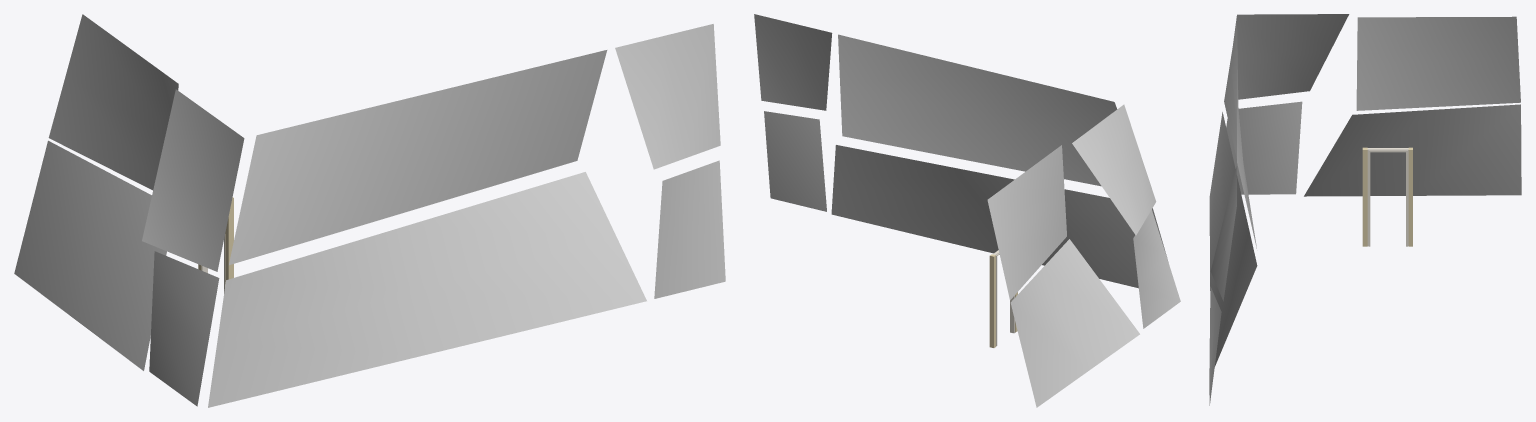
Rendered from marble facade.fbx.
The picture shows the model from 3 angles, left to right: view 1: azimuth 30°, elevation 25°; view 2: azimuth 150°, elevation 25°; view 3: azimuth 270°, elevation 25°; orthographic projection. The views are drawn at different scales.
Visible parts, largest first — view 1: CoronaLight001; view 2: CoronaLight001, module_0; view 3: CoronaLight001, module_0, OG5_Int Doors.
Boxes of the visible parts, x1,y1,x2,y2 form: CoronaLight001: (14, 14, 725, 407); CoronaLight001: (754, 14, 1180, 407); module_0: (989, 254, 1017, 347); CoronaLight001: (1209, 14, 1521, 405); module_0: (1362, 147, 1412, 246); OG5_Int Doors: (1367, 148, 1408, 246).
Size of the model in its own units: 11.71 by 7.17 by 5.23.
